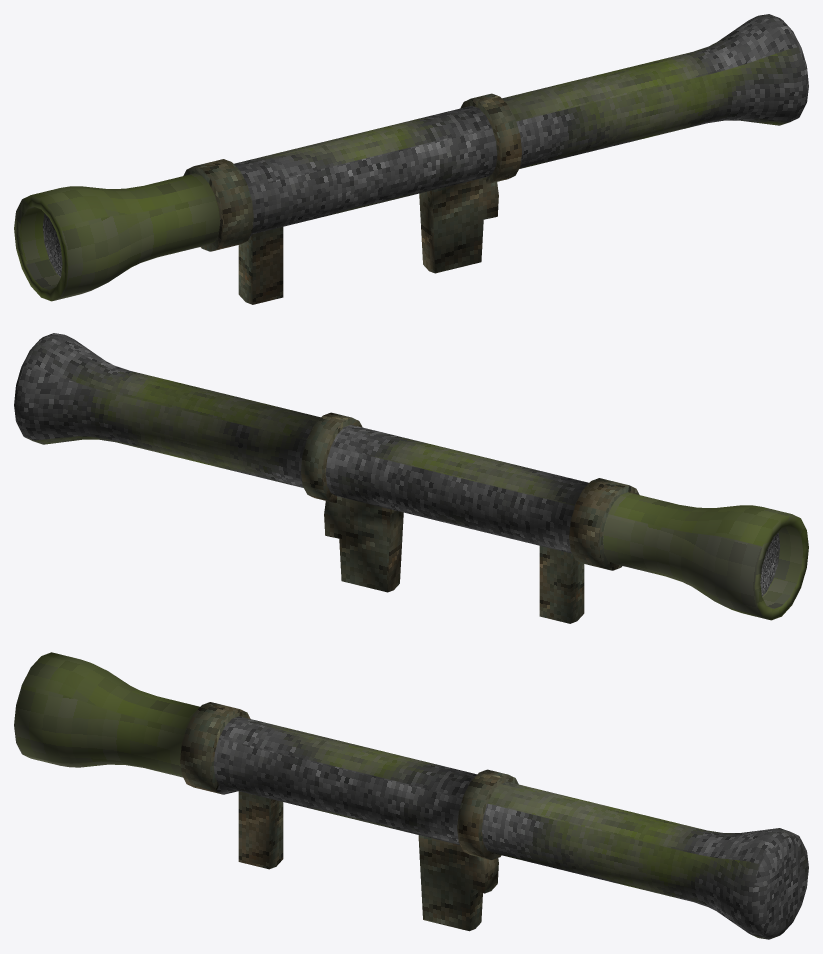
Rendered from Bazooka.glb.
3 views of the same model, one above another, from view 1: azimuth 30°, elevation 25°; view 2: azimuth 150°, elevation 25°; view 3: azimuth 330°, elevation 25° (orthographic).
Visible parts, largest first — view 1: Bazooka; view 2: Bazooka; view 3: Bazooka.
Boxes of the visible parts, x1,y1,x2,y2 form: Bazooka: (14,14,808,304); Bazooka: (14,333,808,623); Bazooka: (14,652,808,939).
Bounding box in the file's own units: 1.45 × 0.3135 × 0.1897.
2 materials, 2 textured.
